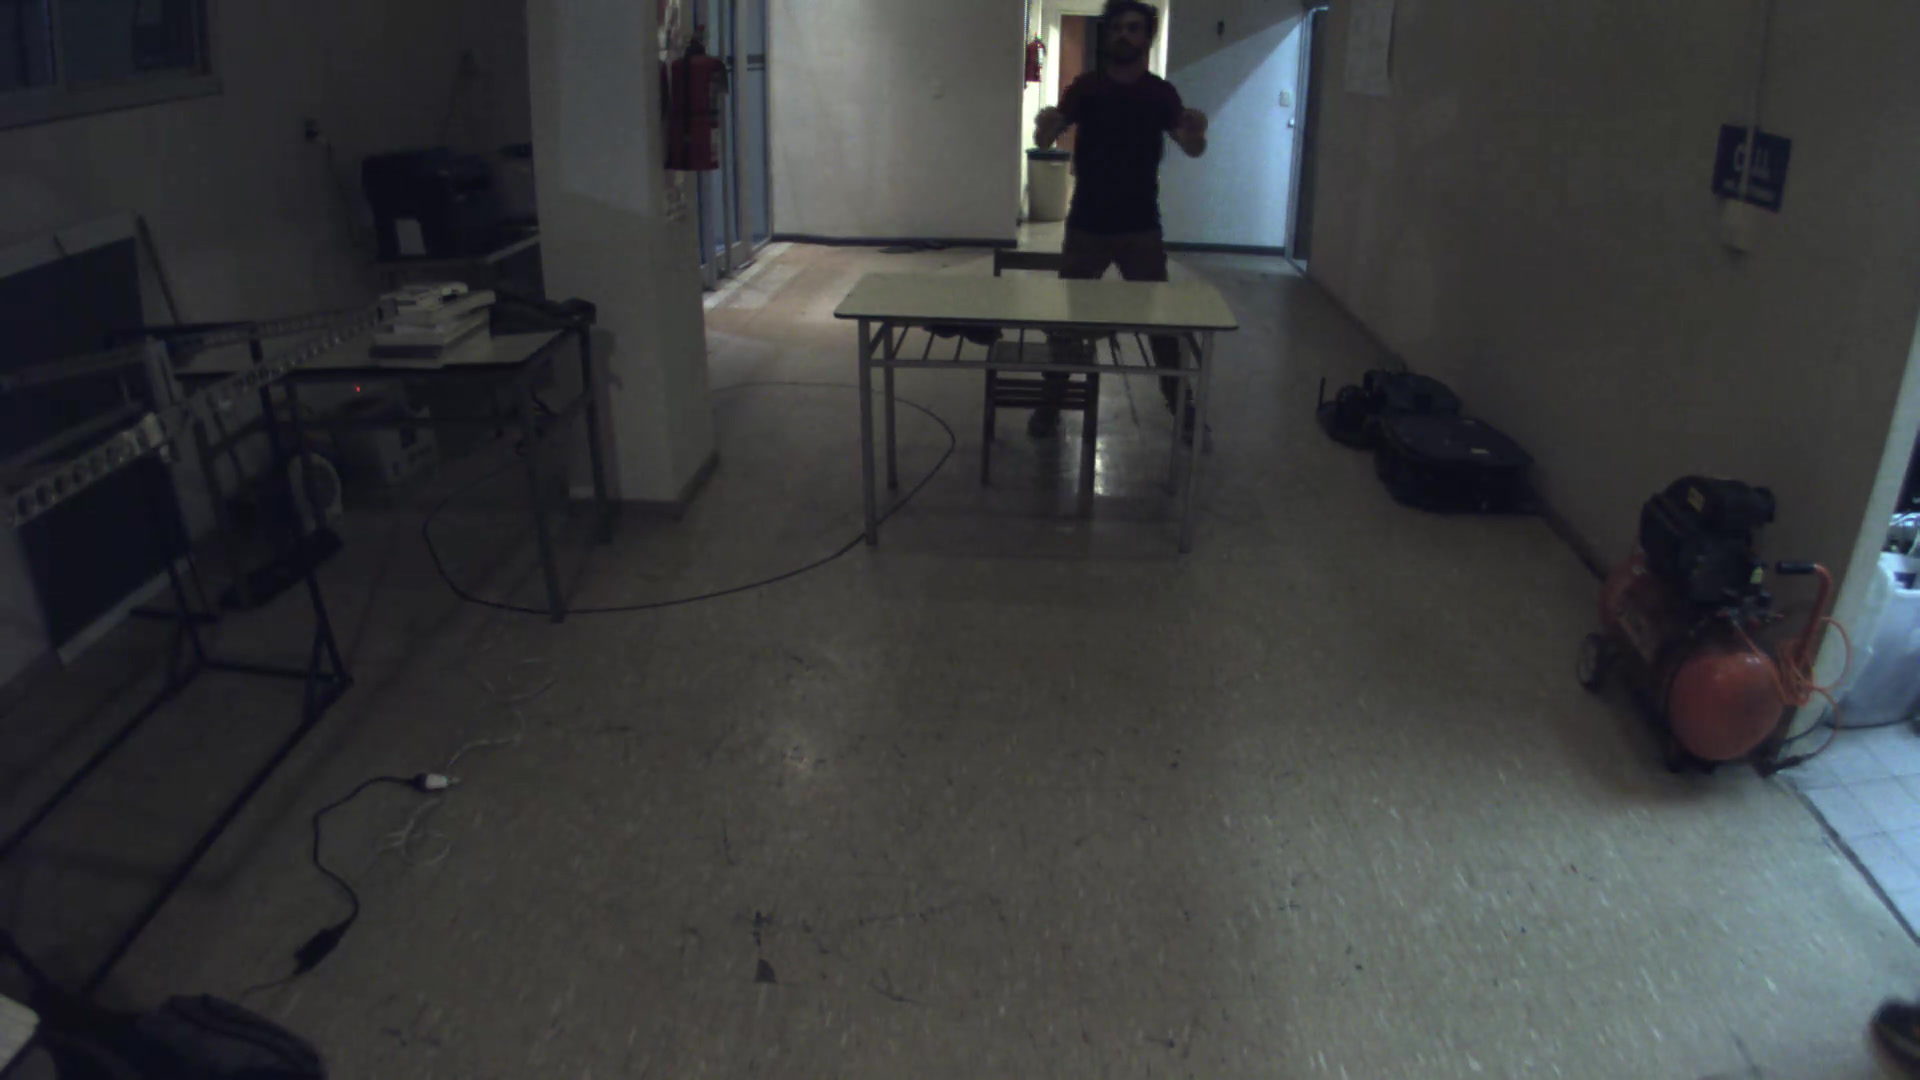hand: (1029, 96, 1083, 146), (1168, 103, 1221, 153)
